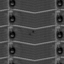dust: (28, 32, 31, 36), (31, 30, 35, 33)
